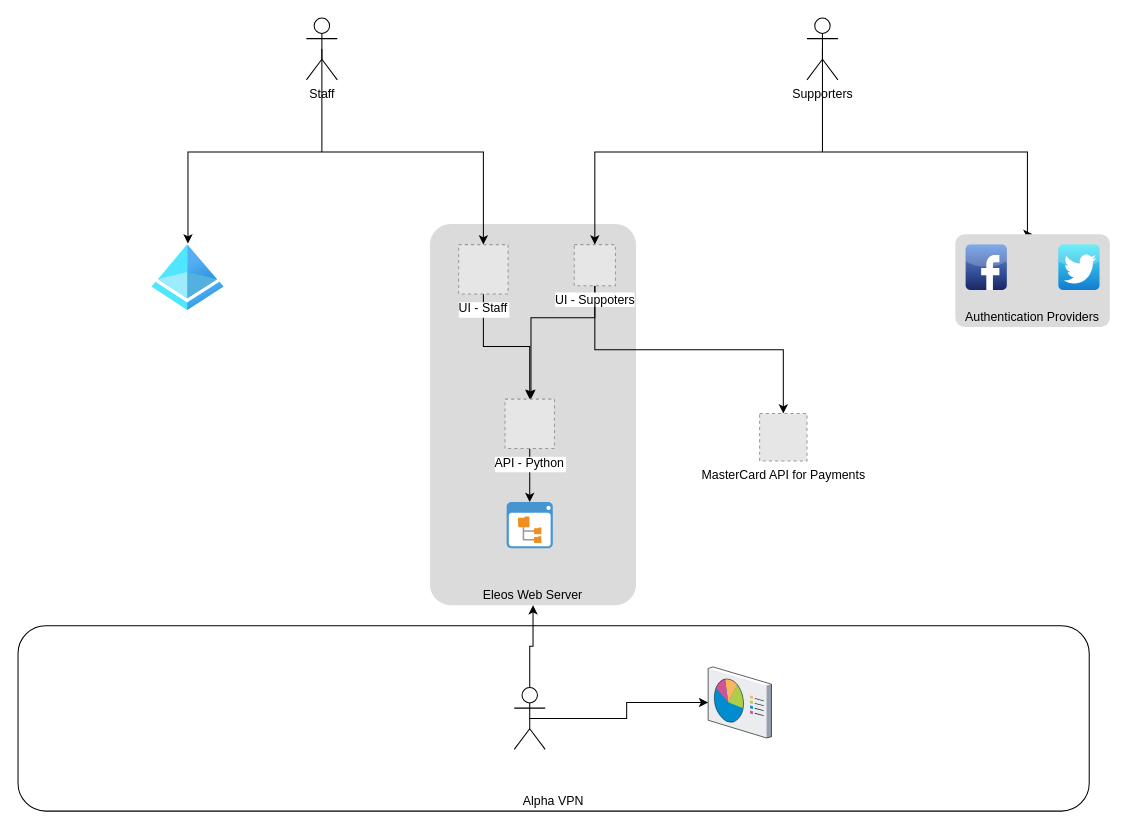
This 1128x829 diagram has some shape labels left out. Grey dashed boxes stand in for pictures. The centre of each missing label's shape, as x and y in pixels:
"Active Directory" belongs at point 187,277.
"File system data persistance" belongs at point 529,525.
"Finance Assistant" belongs at point 529,717.
"Hermes Reporting Server" belongs at point 739,701.
